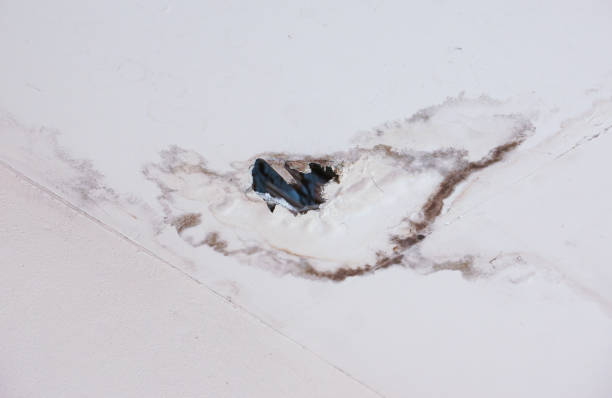crack: (248, 152, 339, 219)
